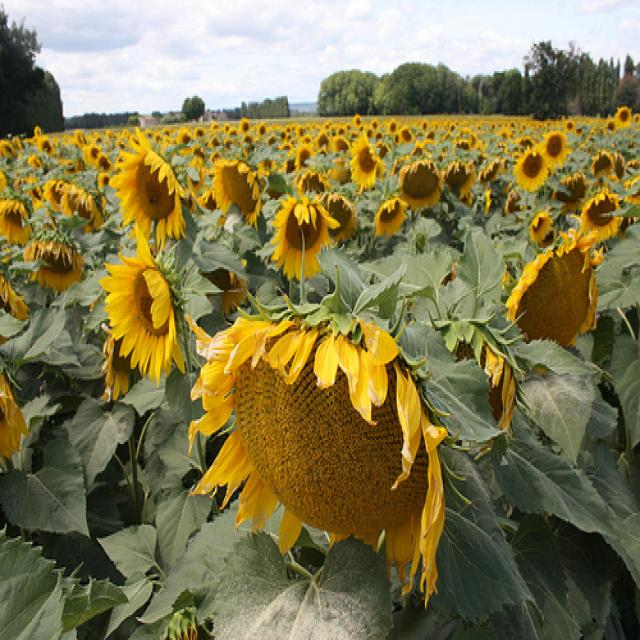sunflower: (205, 300, 429, 584), (97, 242, 188, 390), (497, 244, 603, 347), (104, 126, 192, 238), (297, 169, 364, 249), (24, 218, 88, 294), (272, 194, 328, 276), (212, 155, 262, 226), (392, 156, 448, 210), (57, 170, 106, 231), (577, 188, 628, 244), (348, 131, 384, 188), (516, 146, 550, 189), (373, 198, 412, 235), (539, 136, 573, 176)
